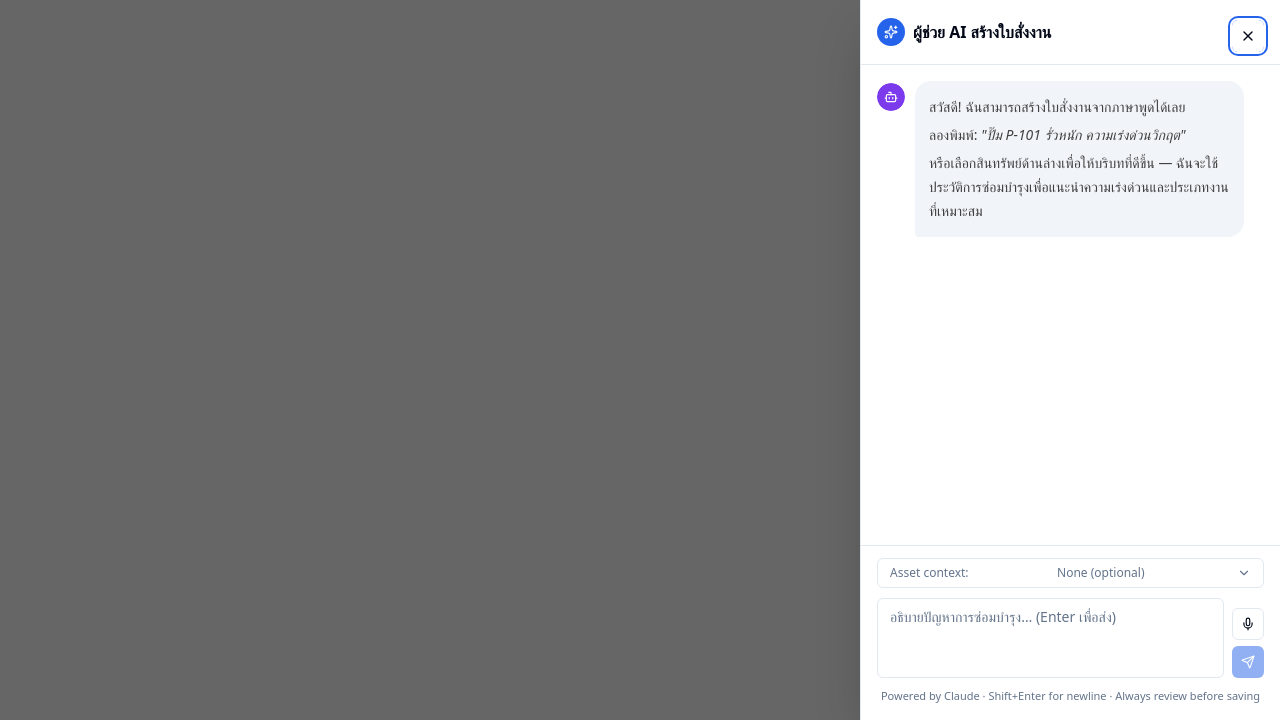
Test case: AIAssistPanel › messaging › appends user message when input is submitted via Enter
Type "Pump P-101 is leaking" into the text box at (1050, 638), box 877,598 -> 1224,678
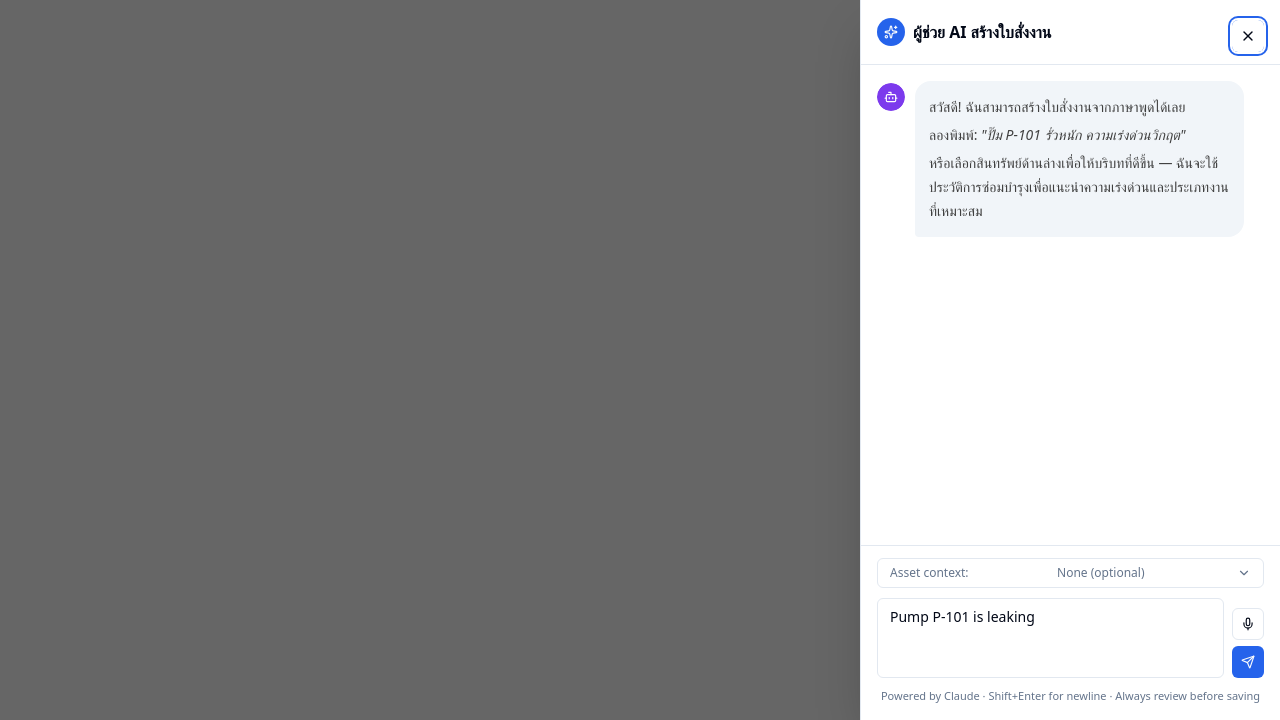
Press Enter in the text box, box 877,598 -> 1224,678
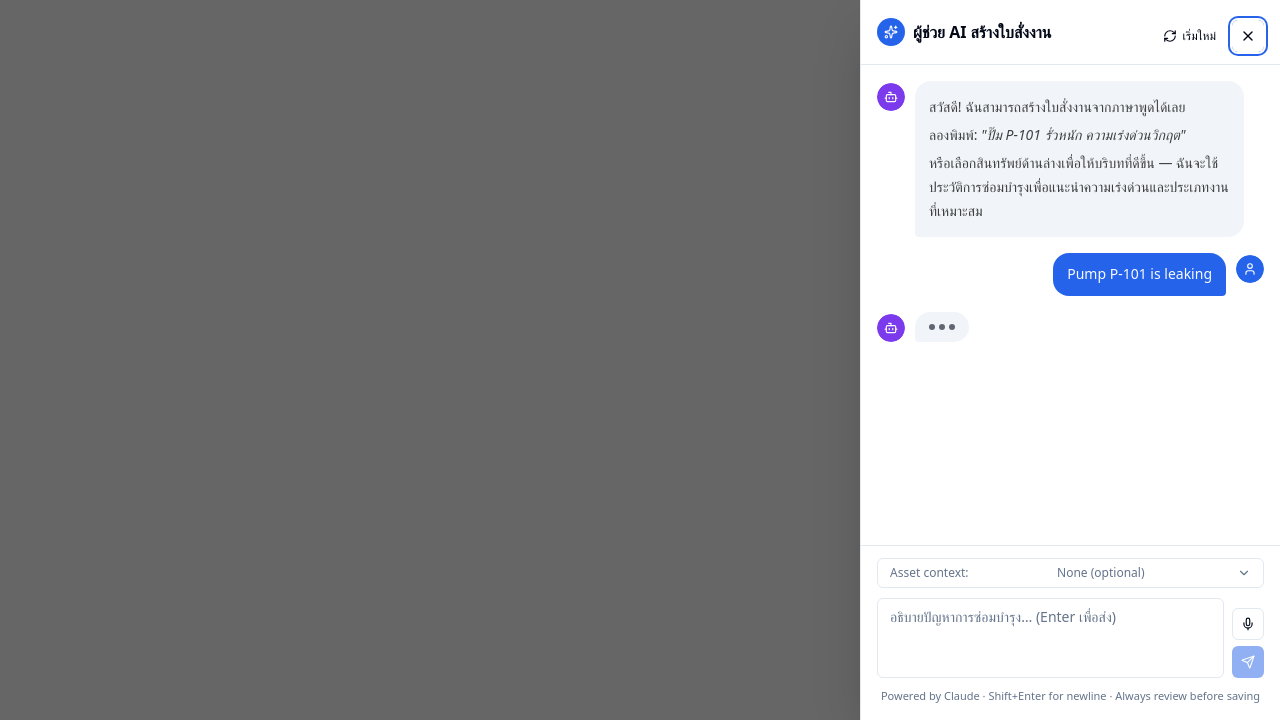
Check: the text "Pump P-101 is leaking" is shown, box 1067,263 -> 1212,286
